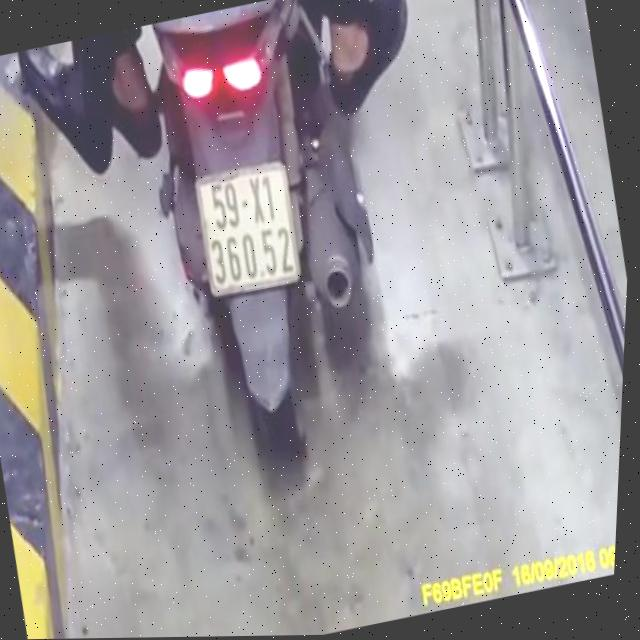motorcycle: (116, 0, 435, 516)
plate: (186, 157, 311, 302)
